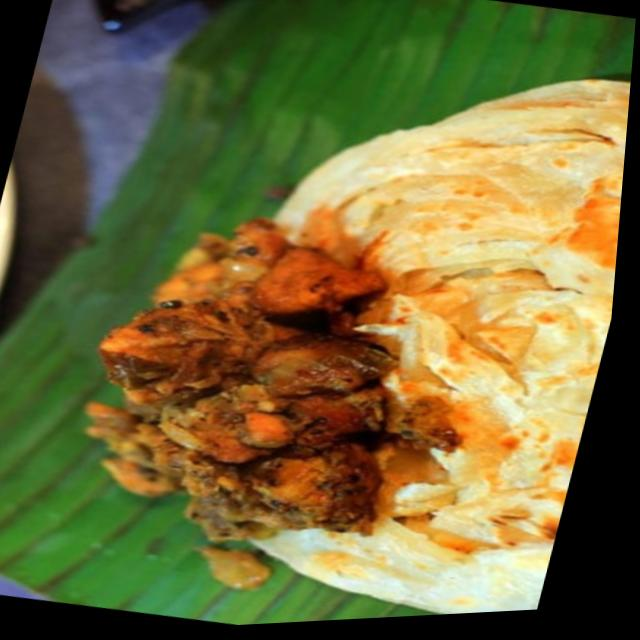CURRY: (84, 218, 392, 545)
PAROTTA: (269, 77, 631, 615)
